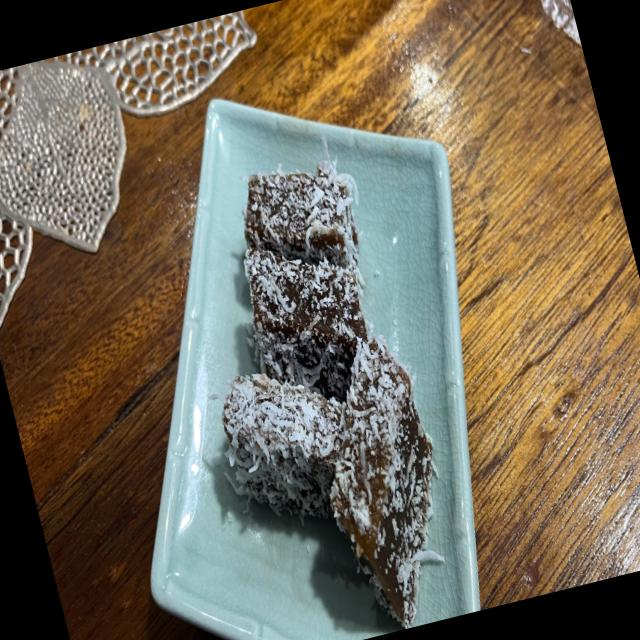kaswi: (330, 335, 432, 626), (244, 247, 367, 402), (222, 373, 343, 519), (243, 145, 358, 269)
